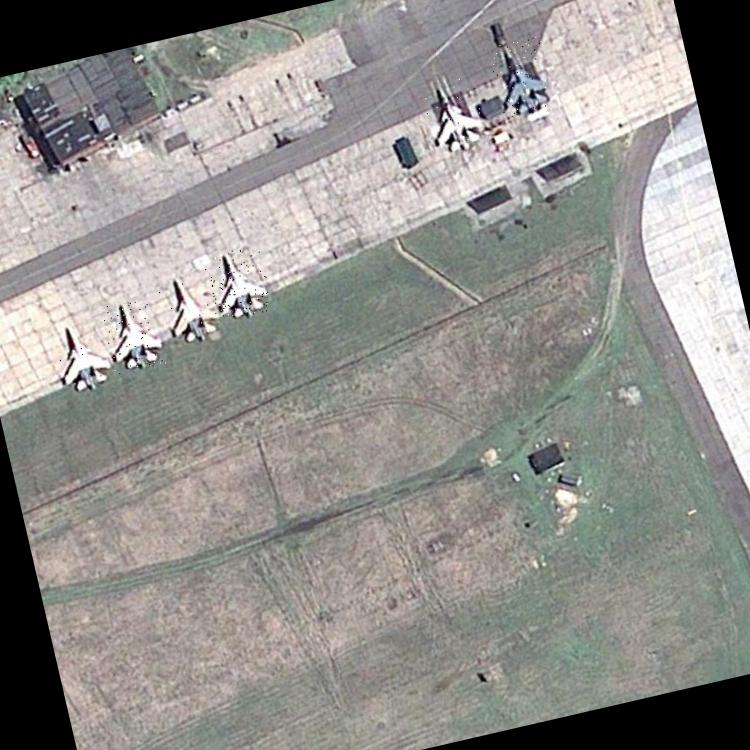A19: (418, 75, 490, 158), (488, 35, 558, 119), (154, 268, 224, 350), (202, 244, 274, 322), (99, 296, 167, 376), (42, 318, 112, 395)
